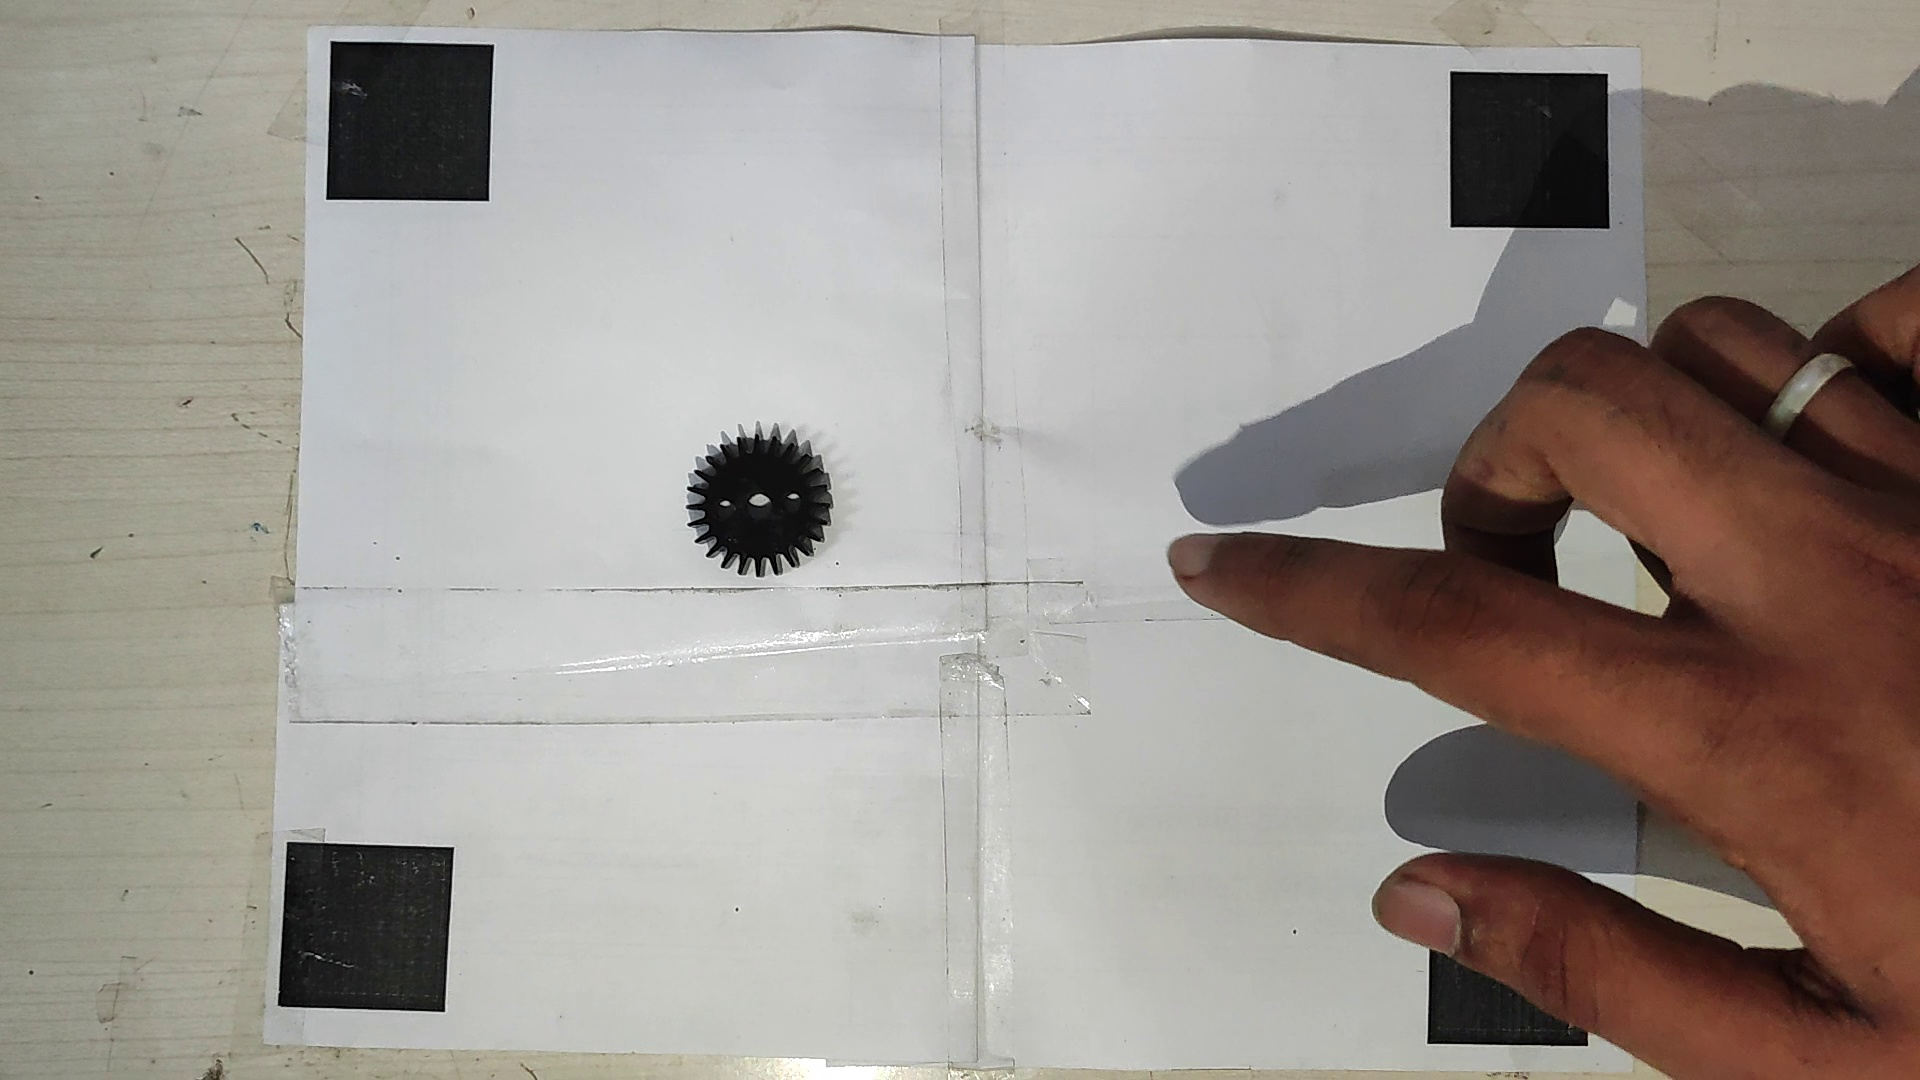Gear: (679, 427, 832, 580)
